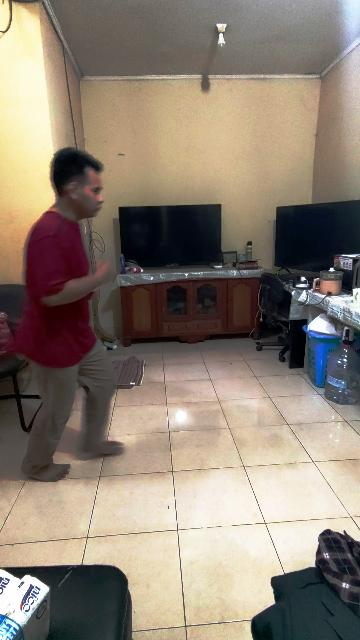berlari: (12, 135, 108, 482)
